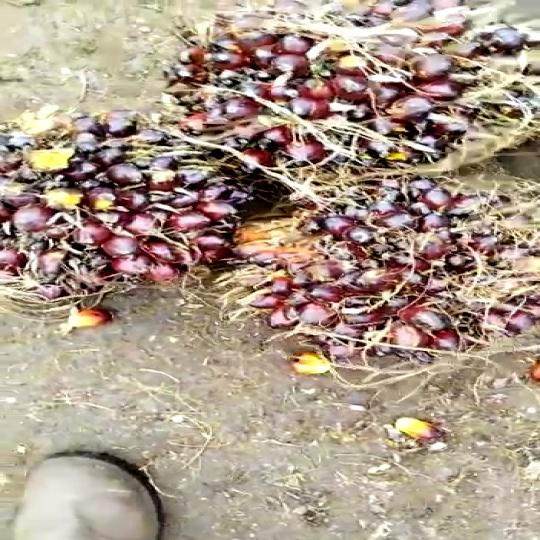kurang masak: (227, 164, 532, 384), (142, 6, 540, 174), (0, 105, 271, 339)
